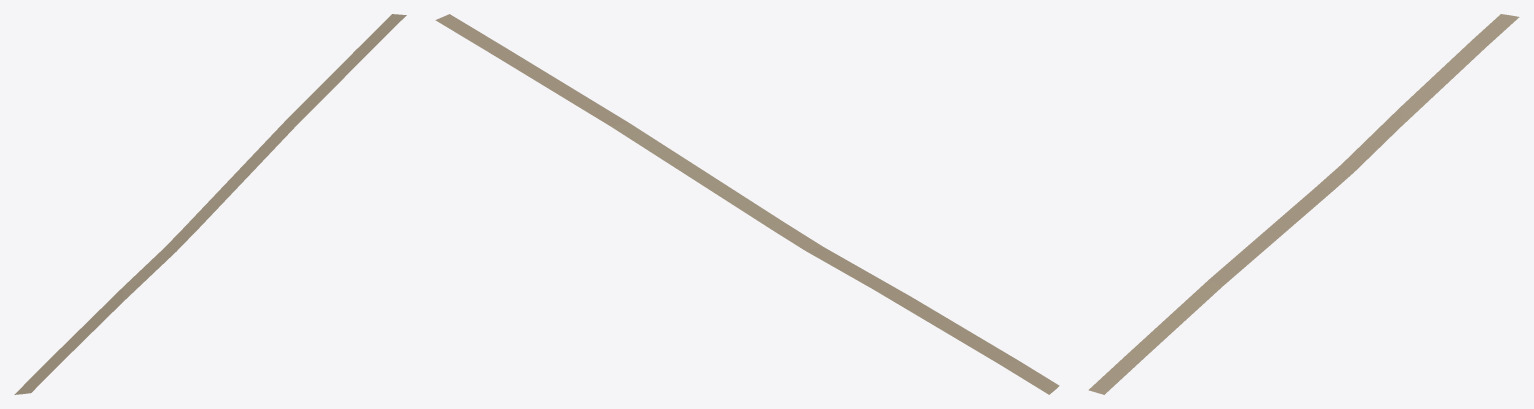
The model's file is farm_5_-5_track.glb.
3 views of the same model, side by side, from view 1: azimuth 90°, elevation 25°; view 2: azimuth 150°, elevation 25°; view 3: azimuth 270°, elevation 25° (orthographic). The views are drawn at different scales.
Parts seen in each view (by area): view 1: geometry_0; view 2: geometry_0; view 3: geometry_0.
Boxes of the visible parts, x1,y1,x2,y2 form: geometry_0: (14, 14, 406, 394); geometry_0: (435, 14, 1059, 394); geometry_0: (1088, 14, 1519, 394).
Size of the model in its own units: 175 by 4.52 by 80.14.
